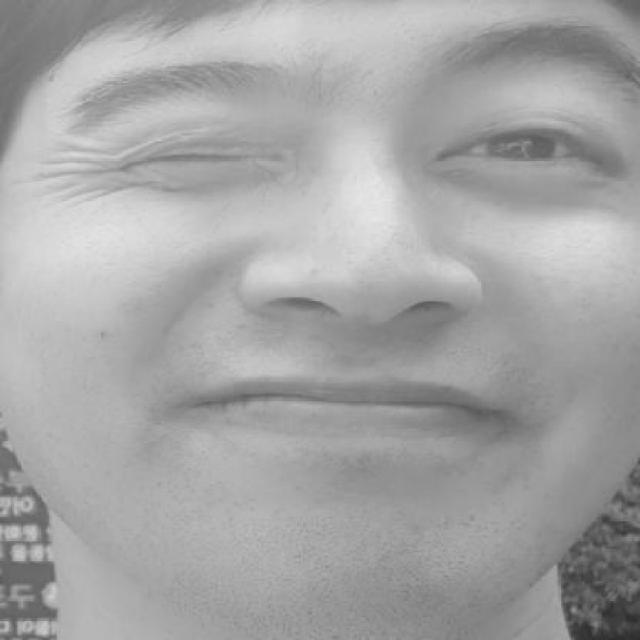happy: (41, 22, 640, 503)
